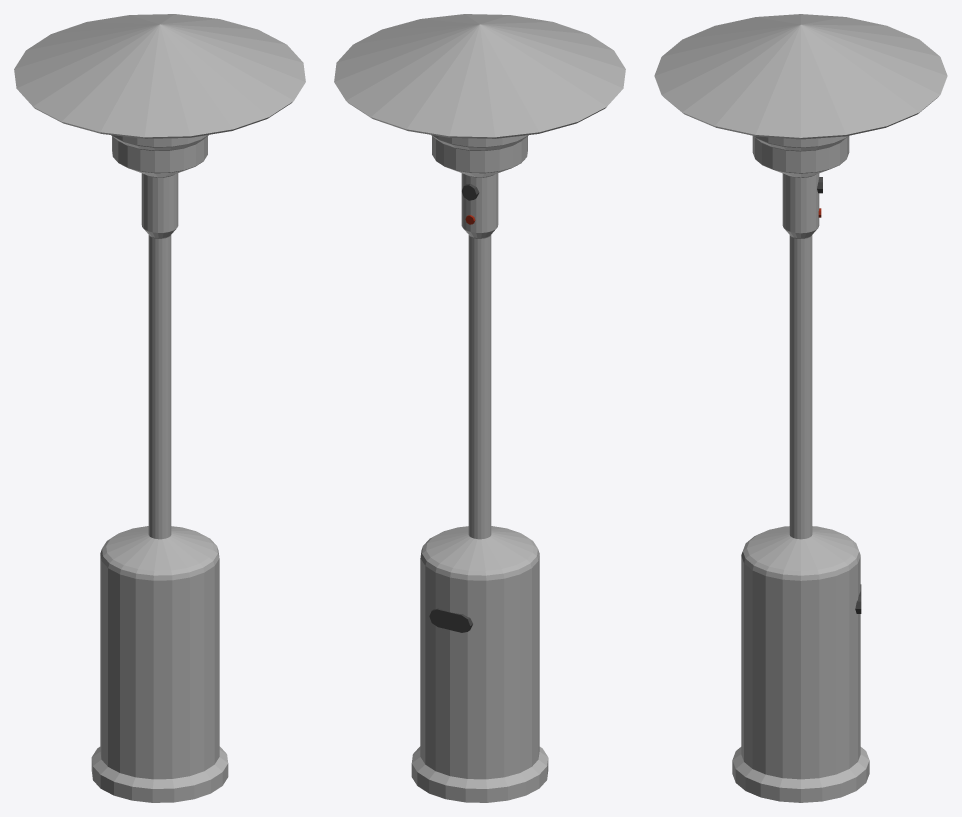
The picture shows the model from 3 angles, left to right: view 1: azimuth 30°, elevation 25°; view 2: azimuth 150°, elevation 25°; view 3: azimuth 270°, elevation 25°; orthographic projection.
Visible parts, largest first — view 1: Patio_Heater; view 2: Patio_Heater; view 3: Patio_Heater.
Boxes of the visible parts, x1,y1,x2,y2 form: Patio_Heater: (14,14,305,802); Patio_Heater: (334,14,625,802); Patio_Heater: (654,14,947,802).
Bounding box in the file's own units: 86.61 × 244 × 86.61.
1 material, 1 textured.
